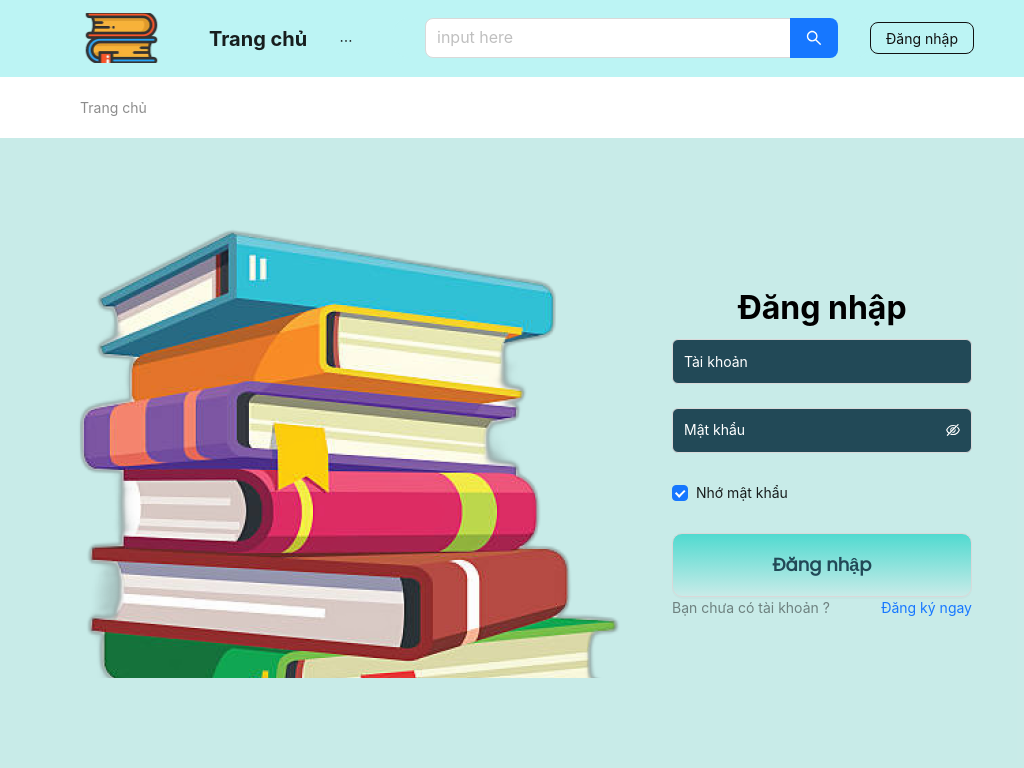
Test case: Spec đăng nhập › Hiển thị thông báo khi không nhập tên đăng nhập và mật khẩu
The width and height of the screenshot is (1024, 768).
Click the button "Đăng nhập" below "Nhớ mật khẩu": [822, 565] box [672, 533, 972, 597]
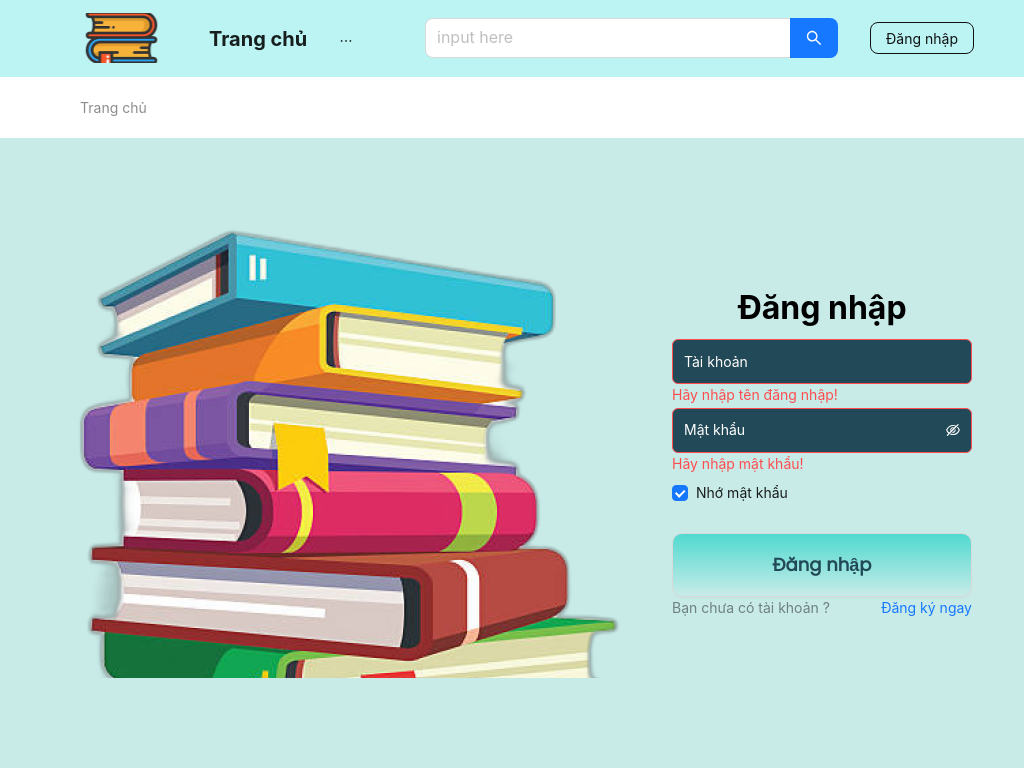
Now the text "Hãy nhập tên đăng nhập!" is shown, box [672, 386, 838, 403]
Now the text "Hãy nhập mật khẩu!" is shown, box [672, 455, 804, 472]
